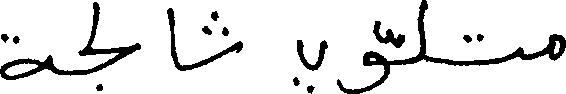X: (82, 0, 137, 93), (340, 16, 388, 93), (0, 29, 44, 84), (297, 35, 325, 93), (551, 29, 565, 65), (420, 0, 425, 93), (168, 3, 172, 62), (516, 42, 522, 64), (235, 36, 240, 57)
